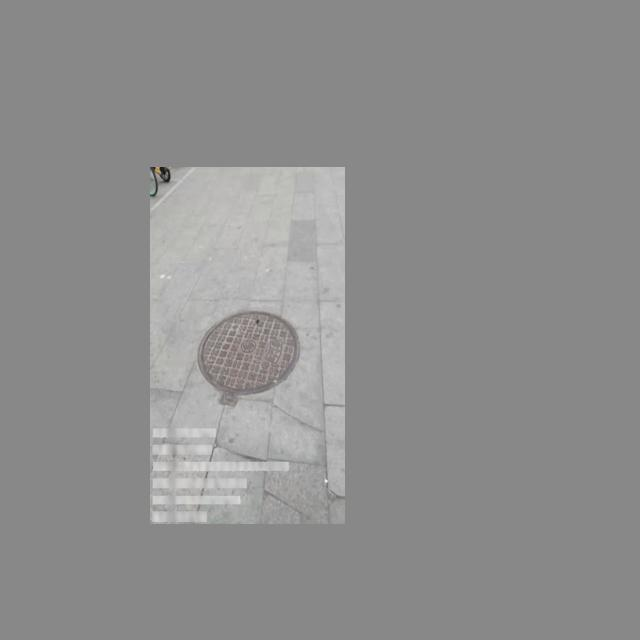good: (197, 308, 300, 408)
